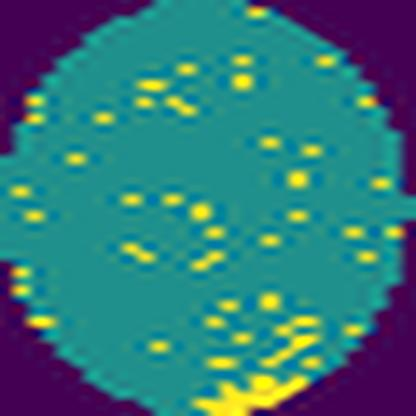Edge-Loc: (198, 368, 318, 416)
